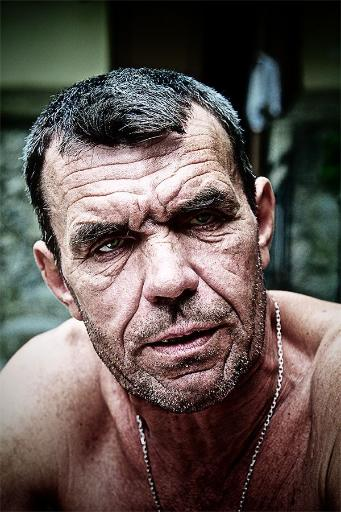left_eye: (177, 205, 233, 231)
left_lip_corner: (205, 317, 232, 343)
right_eye: (91, 232, 131, 256)
right_lip_corner: (141, 337, 160, 356)
